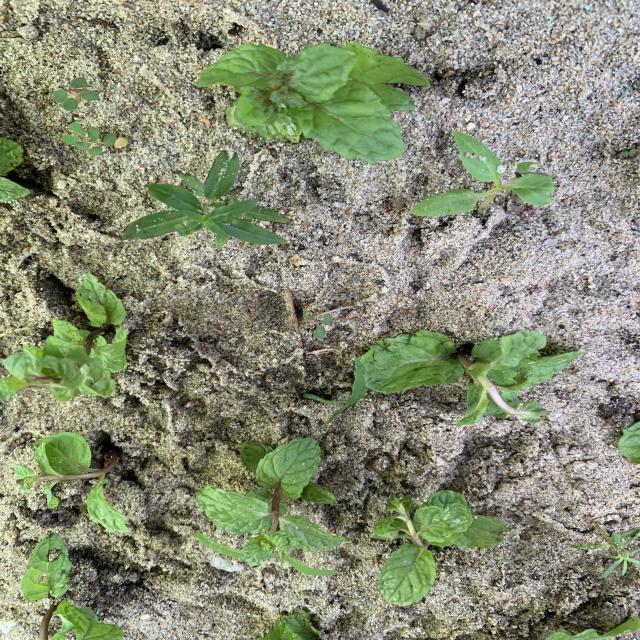crop: (200, 41, 428, 160), (366, 330, 587, 425), (196, 437, 343, 556), (369, 491, 509, 604), (1, 275, 127, 399), (16, 434, 129, 531), (20, 534, 122, 640), (543, 616, 639, 639), (1, 138, 28, 201), (262, 615, 323, 639), (618, 420, 639, 463)
weed: (124, 152, 280, 248), (410, 131, 554, 217), (302, 357, 367, 424), (574, 531, 639, 577), (62, 122, 122, 155), (52, 77, 99, 111), (281, 554, 339, 575), (195, 534, 245, 557), (304, 311, 333, 338), (621, 149, 636, 156)
